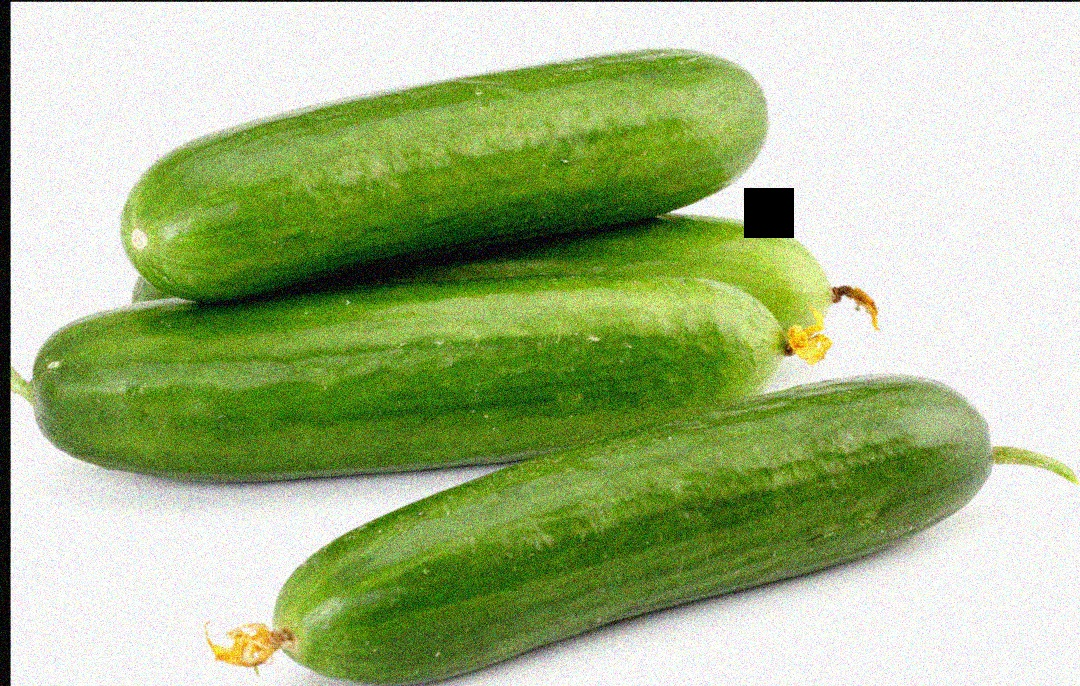cucumber: (272, 396, 991, 664), (18, 260, 796, 479), (117, 70, 763, 299)
